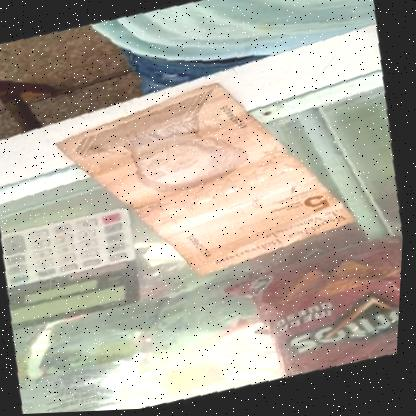five-front-vef: (45, 52, 371, 312)
